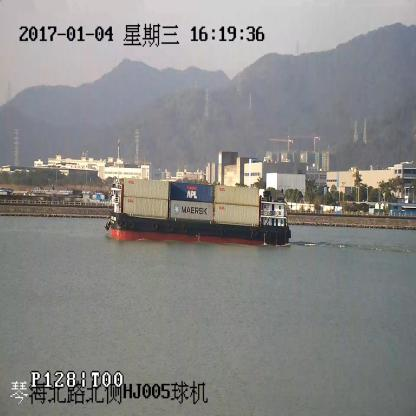Container Ship: (105, 176, 291, 245)
